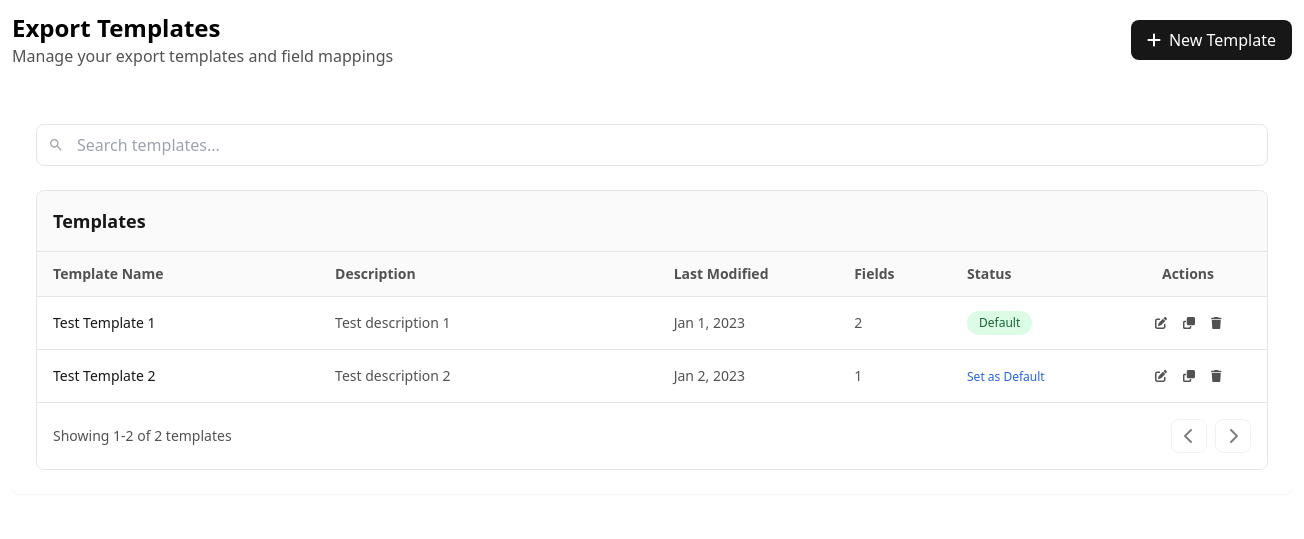
Test: ExportTemplatesPage › Template Editing › should open edit mode when edit button is clicked
The width and height of the screenshot is (1304, 539).
Expected: the text "Test Template 1" is shown, [53,313,156,332]
Click the button titled "Edit" in the row of "Test Template 1": (1161, 323) [1149,309,1173,337]
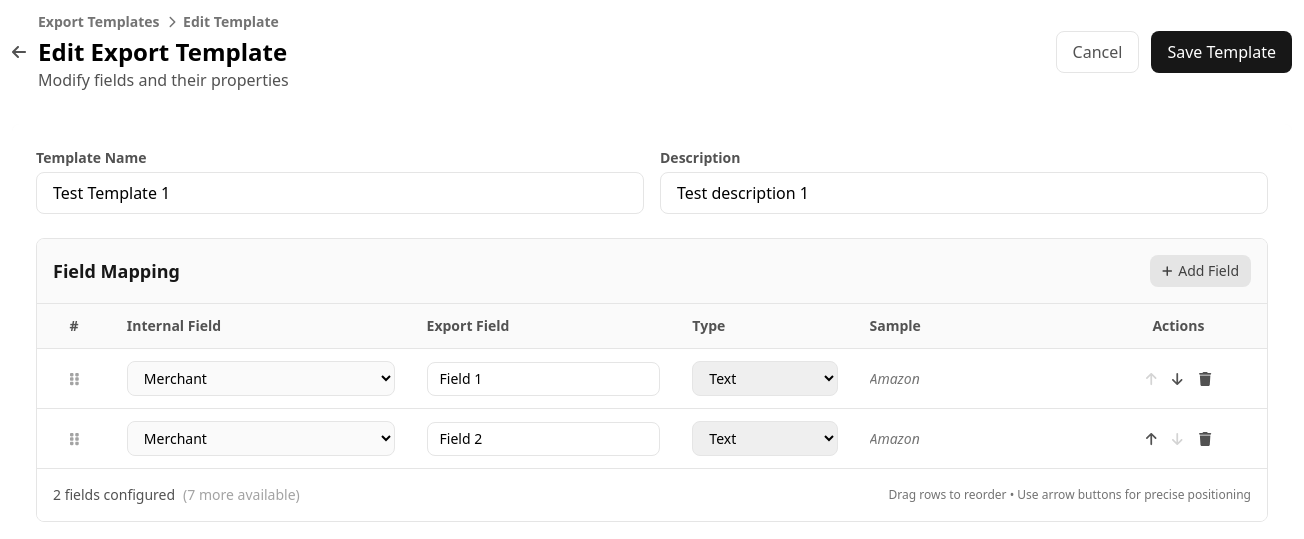
Expected: the heading "Edit Export Template" is shown, [38,36,289,68]
Expected: the text "Modify fields and their properties" is shown, [38,68,289,92]
